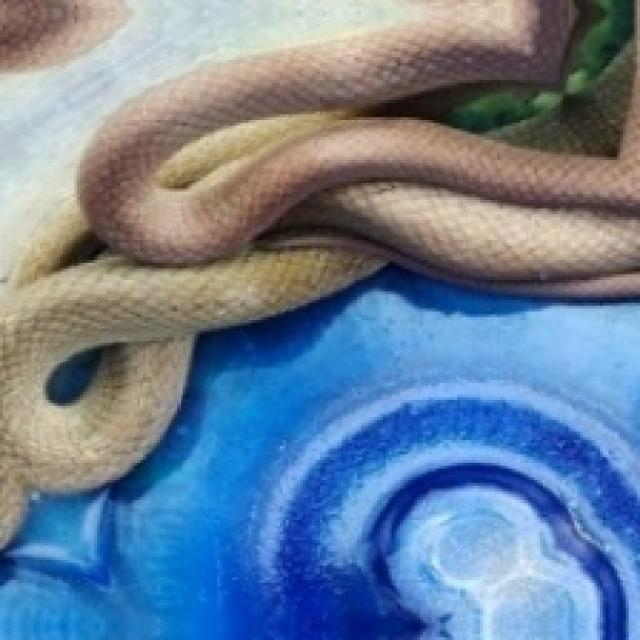reddish rat snake: (1, 0, 640, 546)
